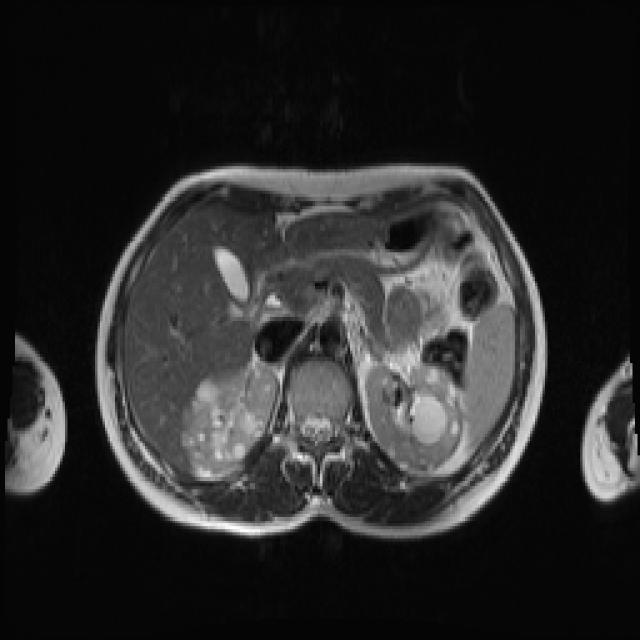sag: (179, 360, 280, 477)
sol: (364, 363, 464, 471)
